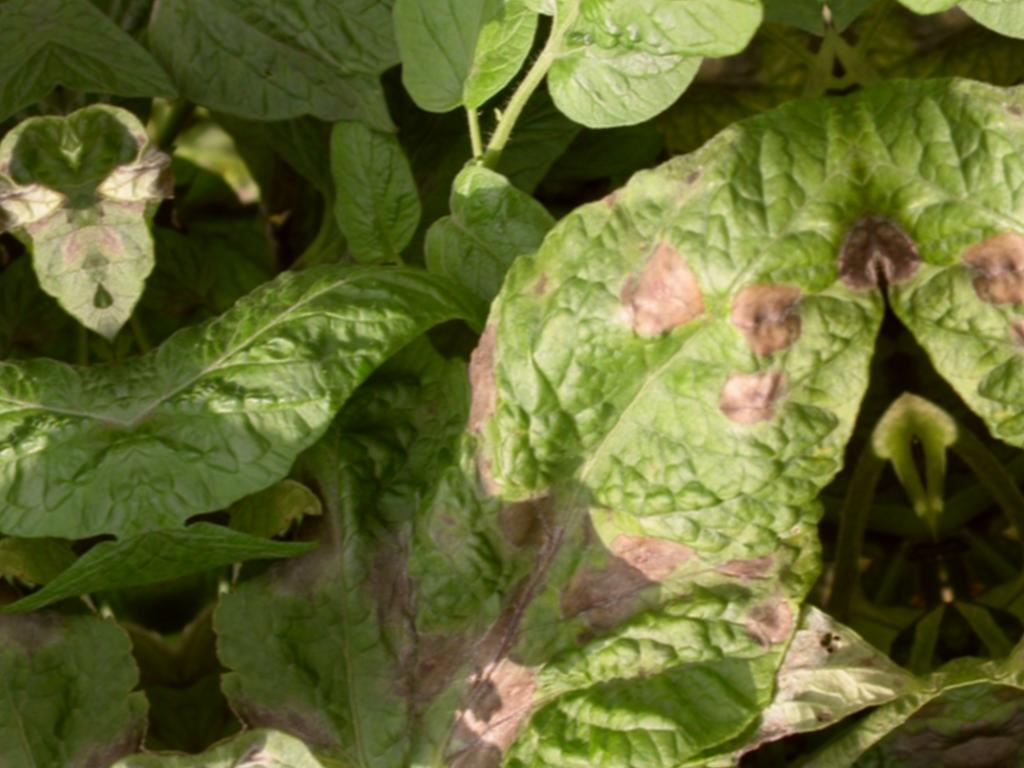Tomato leaf late blight: (240, 100, 973, 768), (111, 0, 468, 163)
